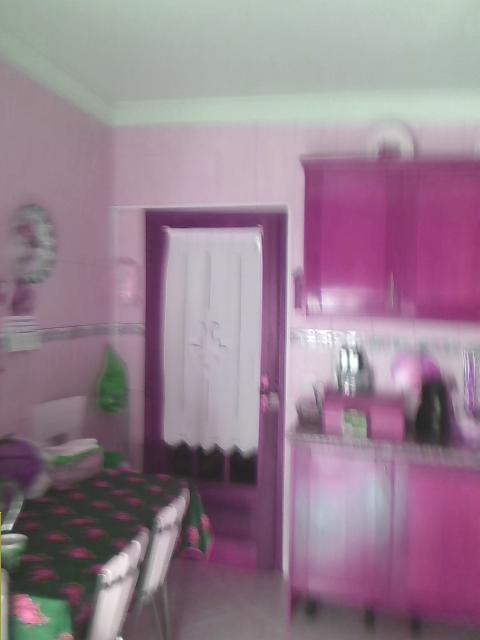closed_door: (141, 203, 288, 577)
